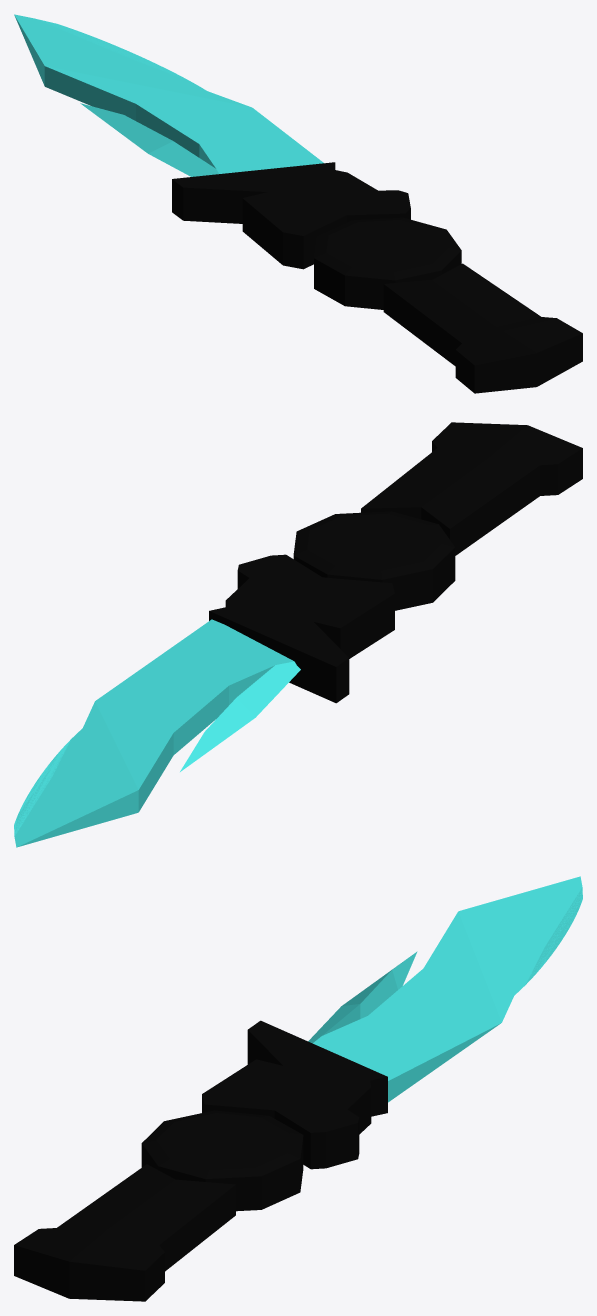
The model's file is throwingKnife.fbx.
3 renders of one model, top to bottom at view 1: azimuth 30°, elevation 25°; view 2: azimuth 150°, elevation 25°; view 3: azimuth 330°, elevation 25°, orthographic. The views are drawn at different scales.
Visible parts, largest first — view 1: Handle, Blade; view 2: Handle, Blade; view 3: Handle, Blade.
Part boxes in pixels (left/top/right/bottom): Handle: left=172, top=162, right=582, bottom=393; Blade: left=14, top=14, right=323, bottom=176; Handle: left=209, top=422, right=582, bottom=703; Blade: left=14, top=619, right=300, bottom=847; Handle: left=14, top=1020, right=387, bottom=1301; Blade: left=308, top=876, right=582, bottom=1102.
Bounding box in the file's own units: 67.2 × 14.61 × 354.
